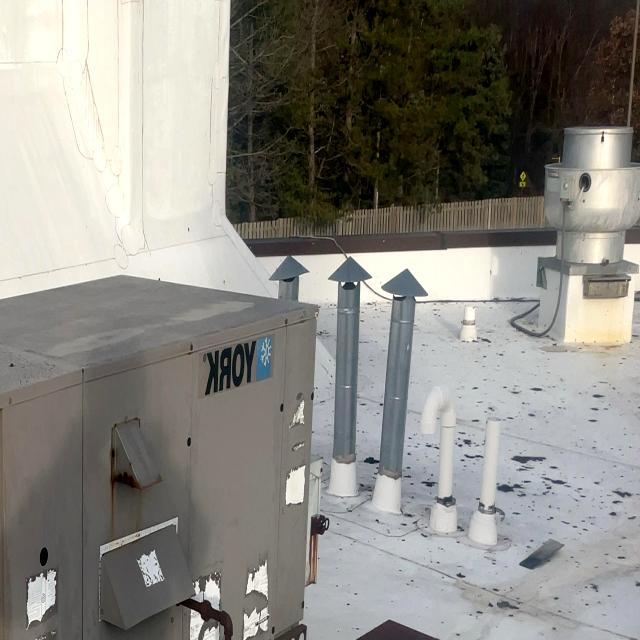GRAVITY-VENT: (516, 122, 640, 357), (378, 256, 427, 507), (328, 243, 369, 497)
RTU: (0, 264, 327, 640)
